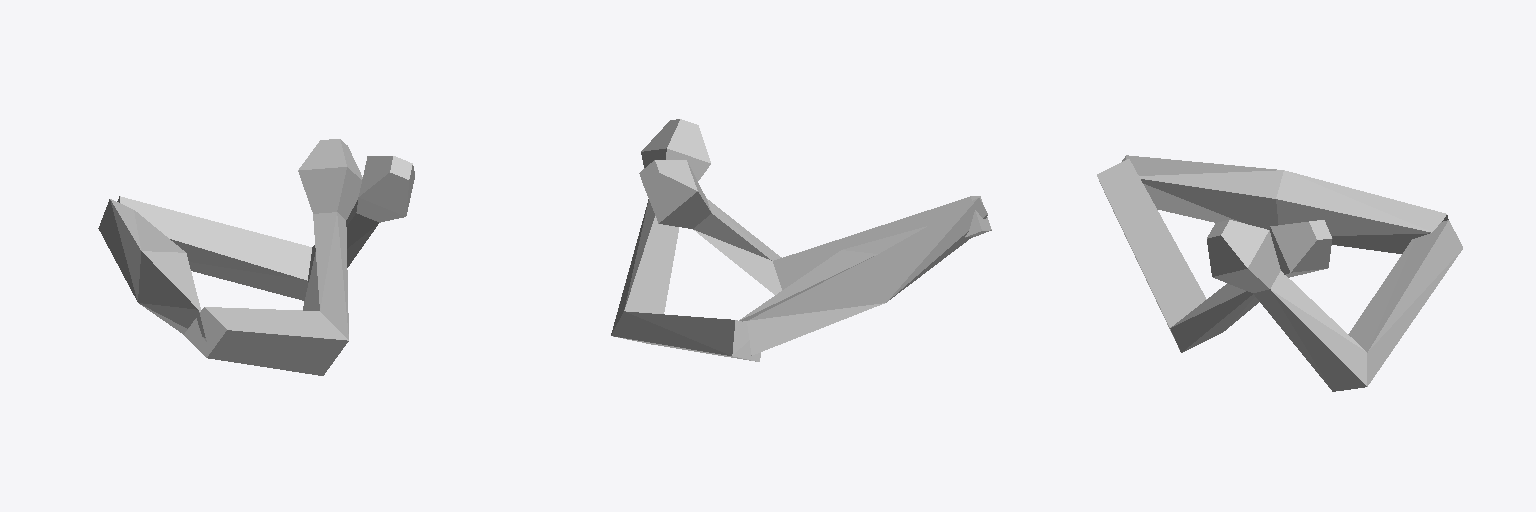
The model's file is handsBlock_000012.obj.
The picture shows the model from 3 angles: view 1: azimuth 30°, elevation 25°; view 2: azimuth 150°, elevation 25°; view 3: azimuth 270°, elevation 25°; orthographic projection.
Parts seen in each view (by area): view 1: Cube; view 2: Cube; view 3: Cube.
Part boxes in pixels (bbox=[...]): Cube: bbox=[98, 139, 414, 375]; Cube: bbox=[611, 119, 991, 361]; Cube: bbox=[1097, 155, 1462, 391].
Bounding box in the file's own units: 4.62 × 2.81 × 5.13.